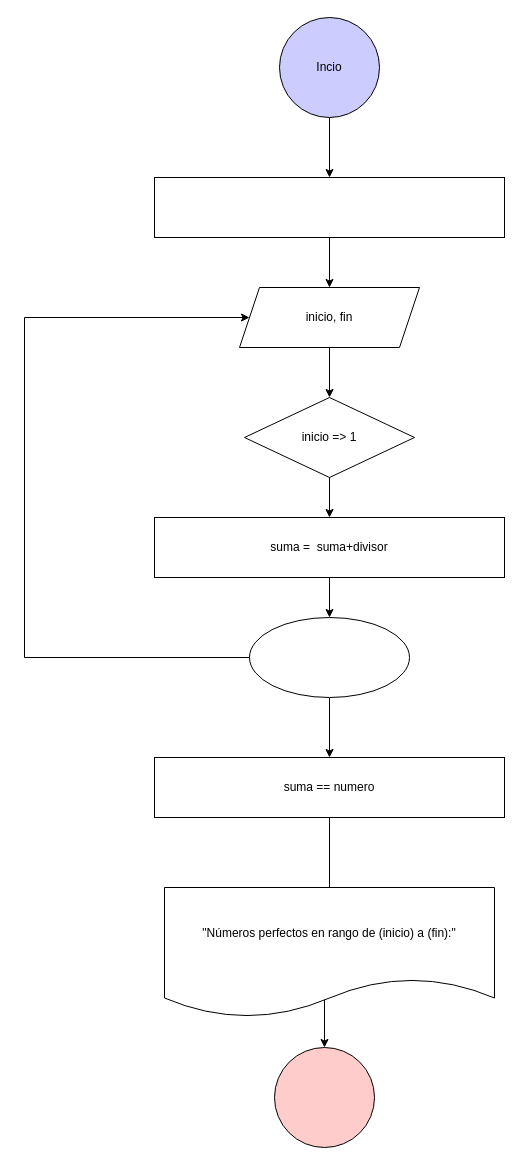
Some shapes in this 522 by 1165 pixel diagram are drawn without their labels. The shapes that lost their labels are listed below. From the top down, each one's centre as x and y in pixels, then its label:
At point 329,207: "inicio, fin, suma = 0, divisor=1".
At point 329,657: "Retorno".
At point 324,1097: "Fin".
